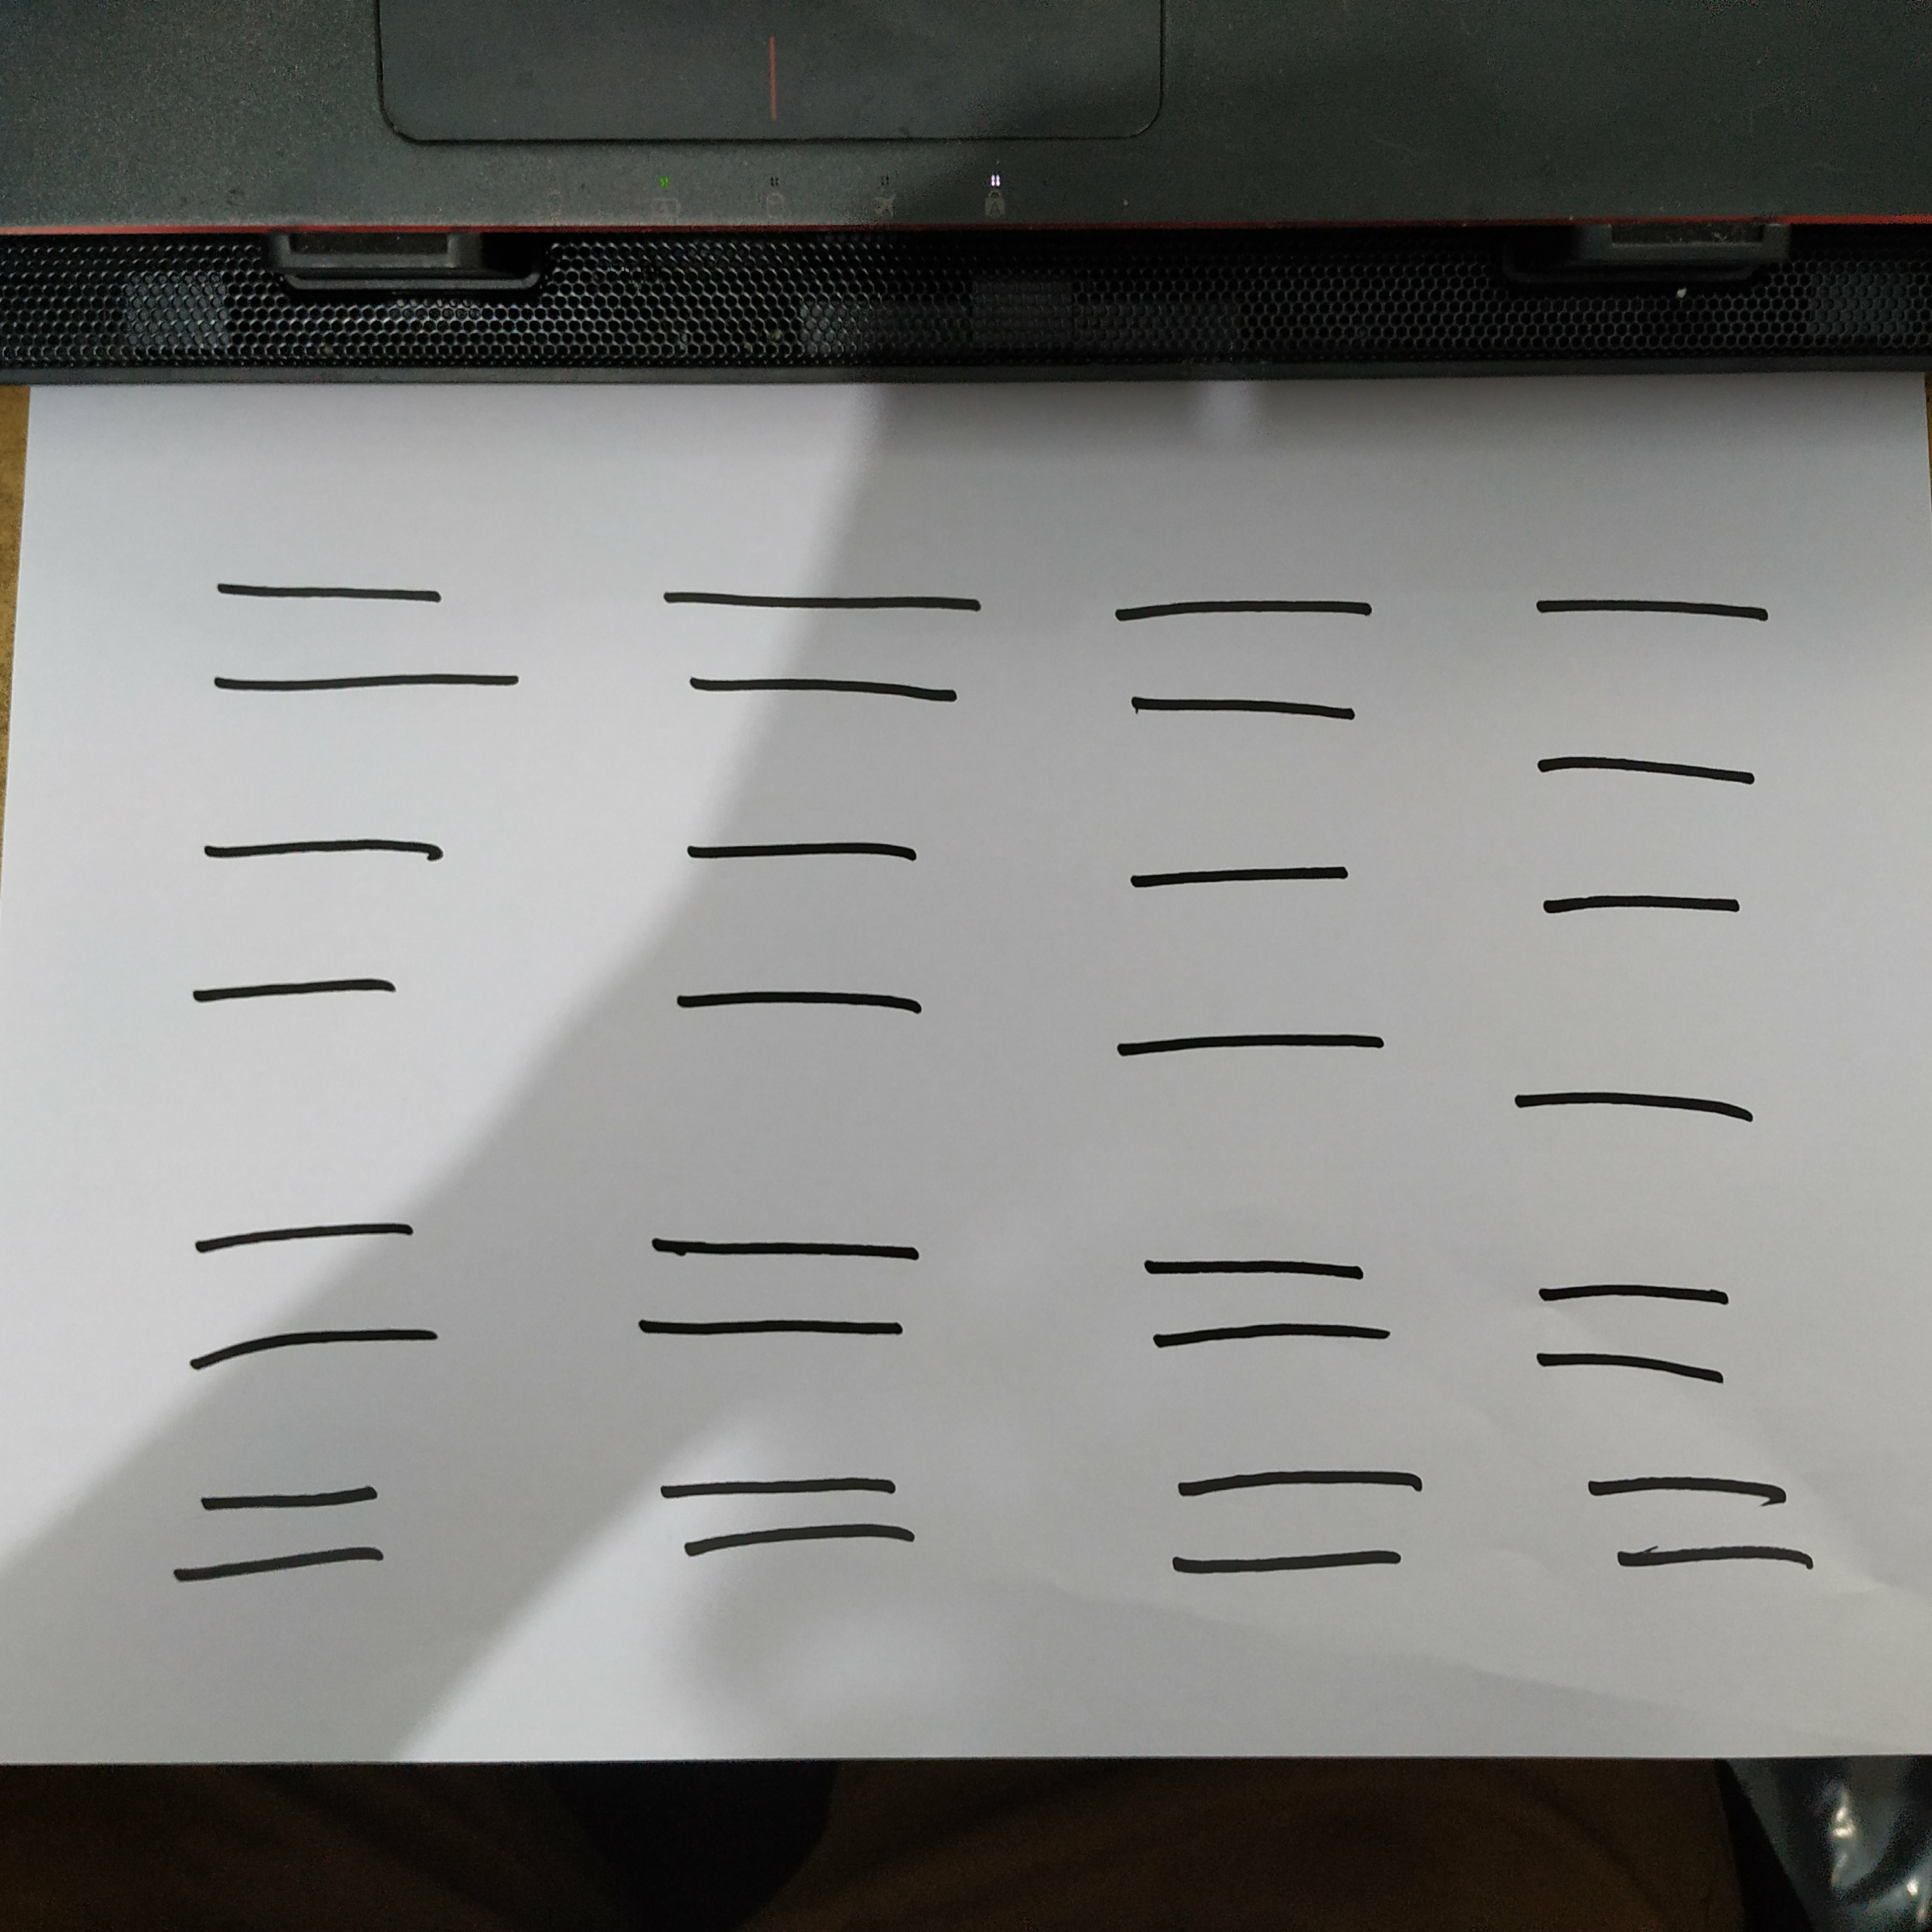equal: (1481, 868, 1832, 1157), (654, 808, 985, 1061), (1088, 840, 1422, 1088), (152, 806, 480, 1026), (179, 544, 577, 723), (612, 1184, 963, 1379), (1508, 581, 1797, 810), (142, 1192, 489, 1383), (641, 552, 1009, 729), (1081, 567, 1406, 753), (1108, 1225, 1440, 1381), (138, 1461, 464, 1613), (1133, 1454, 1471, 1600), (1563, 1454, 1861, 1607), (636, 1461, 950, 1568), (1524, 1266, 1752, 1408)
